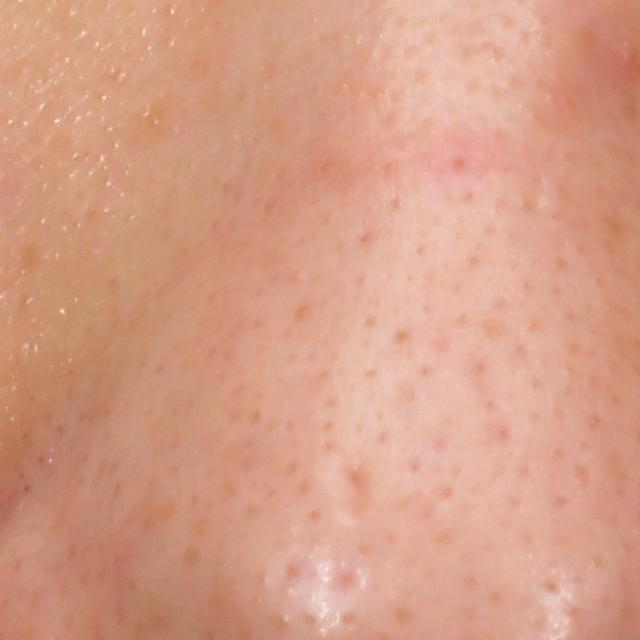atrophic_scar: (338, 448, 386, 532)
